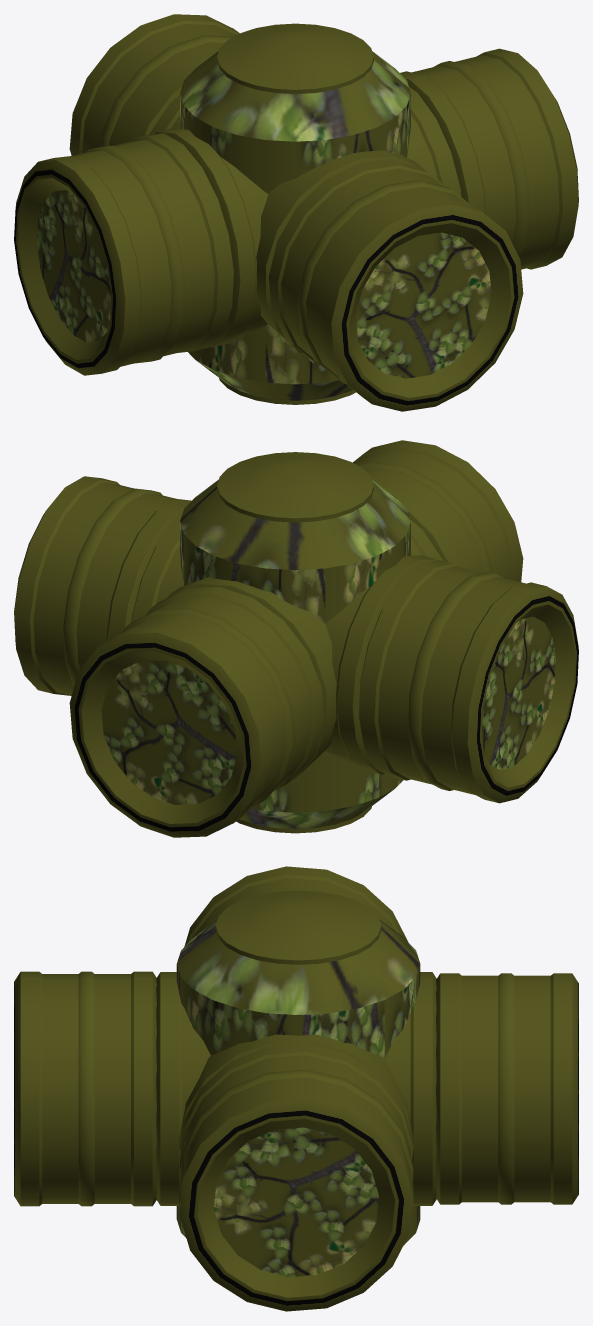
File: pipe_connector_c.FBX
The picture shows the model from 3 angles, top to bottom: view 1: azimuth 30°, elevation 25°; view 2: azimuth 150°, elevation 25°; view 3: azimuth 270°, elevation 25°; orthographic projection. The views are drawn at different scales.
Parts seen in each view (by area): view 1: pipe_connector_c; view 2: pipe_connector_c; view 3: pipe_connector_c.
Boxes of the visible parts, x1,y1,x2,y2 form: pipe_connector_c: (14,14,578,411); pipe_connector_c: (14,440,578,837); pipe_connector_c: (14,866,578,1311).
Size of the model in its own units: 3.61 by 3.61 by 2.61.
